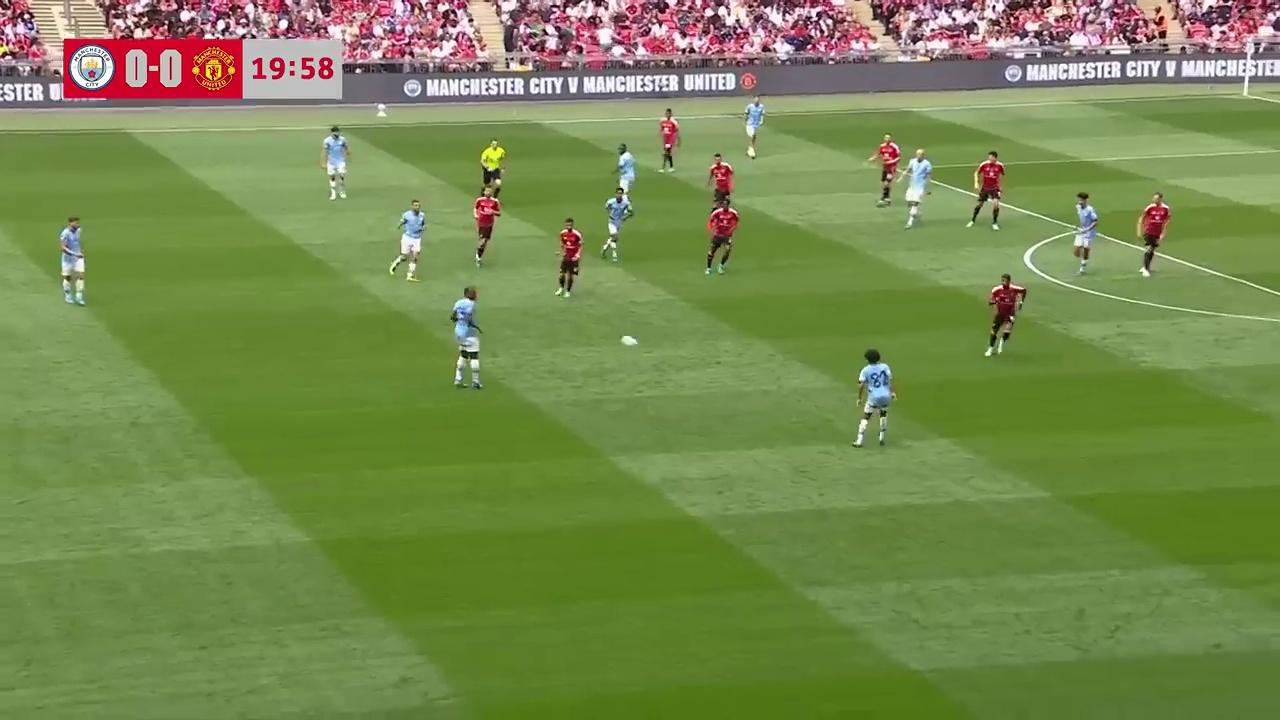ball: (620, 331, 640, 347)
player: (852, 349, 897, 448), (449, 286, 483, 389), (984, 274, 1026, 357), (967, 150, 1005, 230), (389, 198, 425, 281), (1136, 192, 1170, 275), (704, 199, 739, 276), (58, 215, 86, 305), (601, 186, 632, 262), (902, 149, 931, 229), (869, 135, 902, 205), (472, 188, 501, 267), (321, 126, 351, 201), (556, 217, 582, 298), (1073, 192, 1097, 274), (706, 152, 735, 207), (742, 95, 765, 159), (615, 143, 636, 212), (658, 108, 679, 171)
referee: (479, 138, 507, 202)
